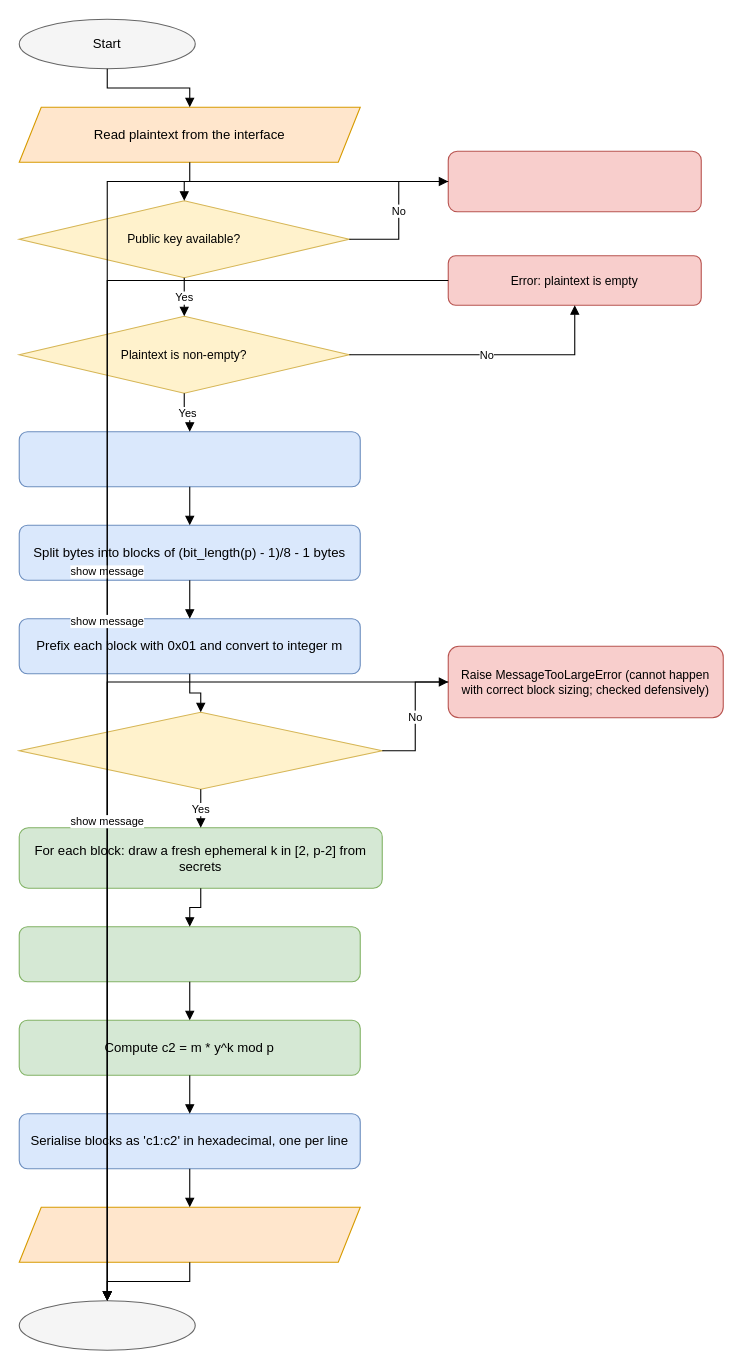
Some shapes in this 743 by 1370 pixel diagram are drawn without their labels. The shapes that lost their labels are listed below. From the top down, each one's centre as x and y in pixels, then its label:
(574,181): Error: generate or import a key pair first
(189,459): Encode plaintext as UTF-8 bytes
(200,750): Every block satisfies 0 < m < p ?
(189,954): Compute c1 = g^k mod p
(189,1234): Display ciphertext and status
(106,1325): End
